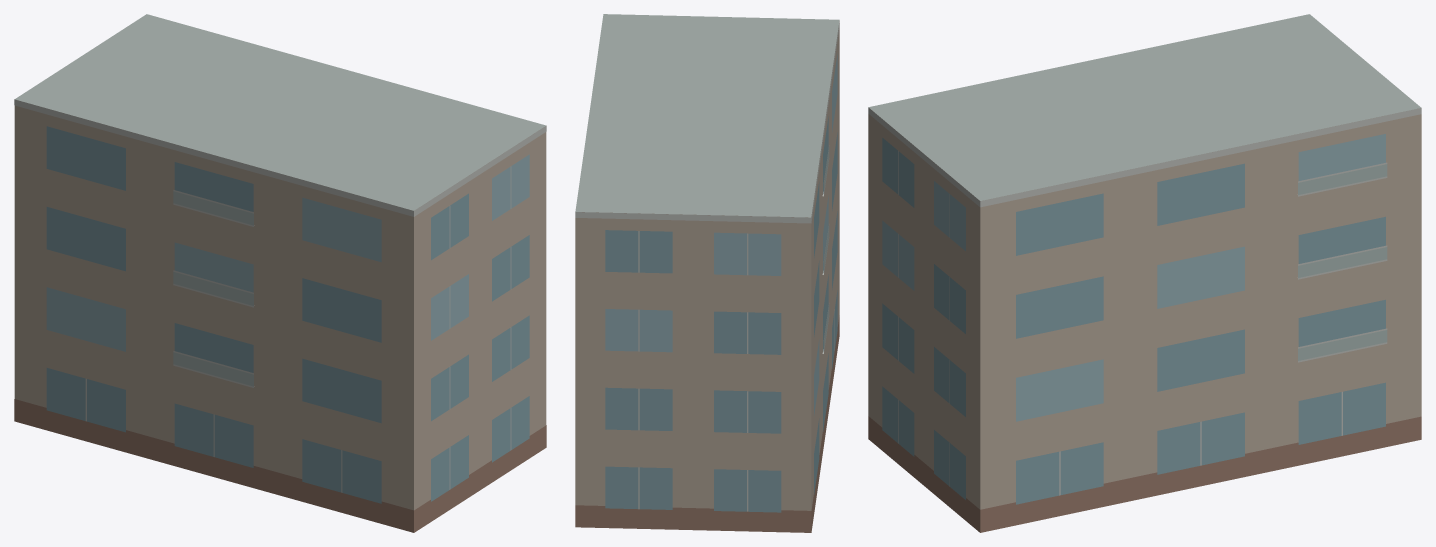
The model's file is survey-upis-33002648.glb.
3 renders of one model, left to right at view 1: azimuth 30°, elevation 25°; view 2: azimuth 150°, elevation 25°; view 3: azimuth 270°, elevation 25°, orthographic. The views are drawn at different scales.
Parts seen in each view (by area): view 1: survey-upis-33002648.tmp; view 2: survey-upis-33002648.tmp; view 3: survey-upis-33002648.tmp.
Boxes of the visible parts, x1,y1,x2,y2 form: survey-upis-33002648.tmp: (14, 14, 546, 532); survey-upis-33002648.tmp: (575, 14, 839, 532); survey-upis-33002648.tmp: (868, 14, 1421, 532).
Size of the model in its own units: 15.61 by 12.9 by 19.51.
